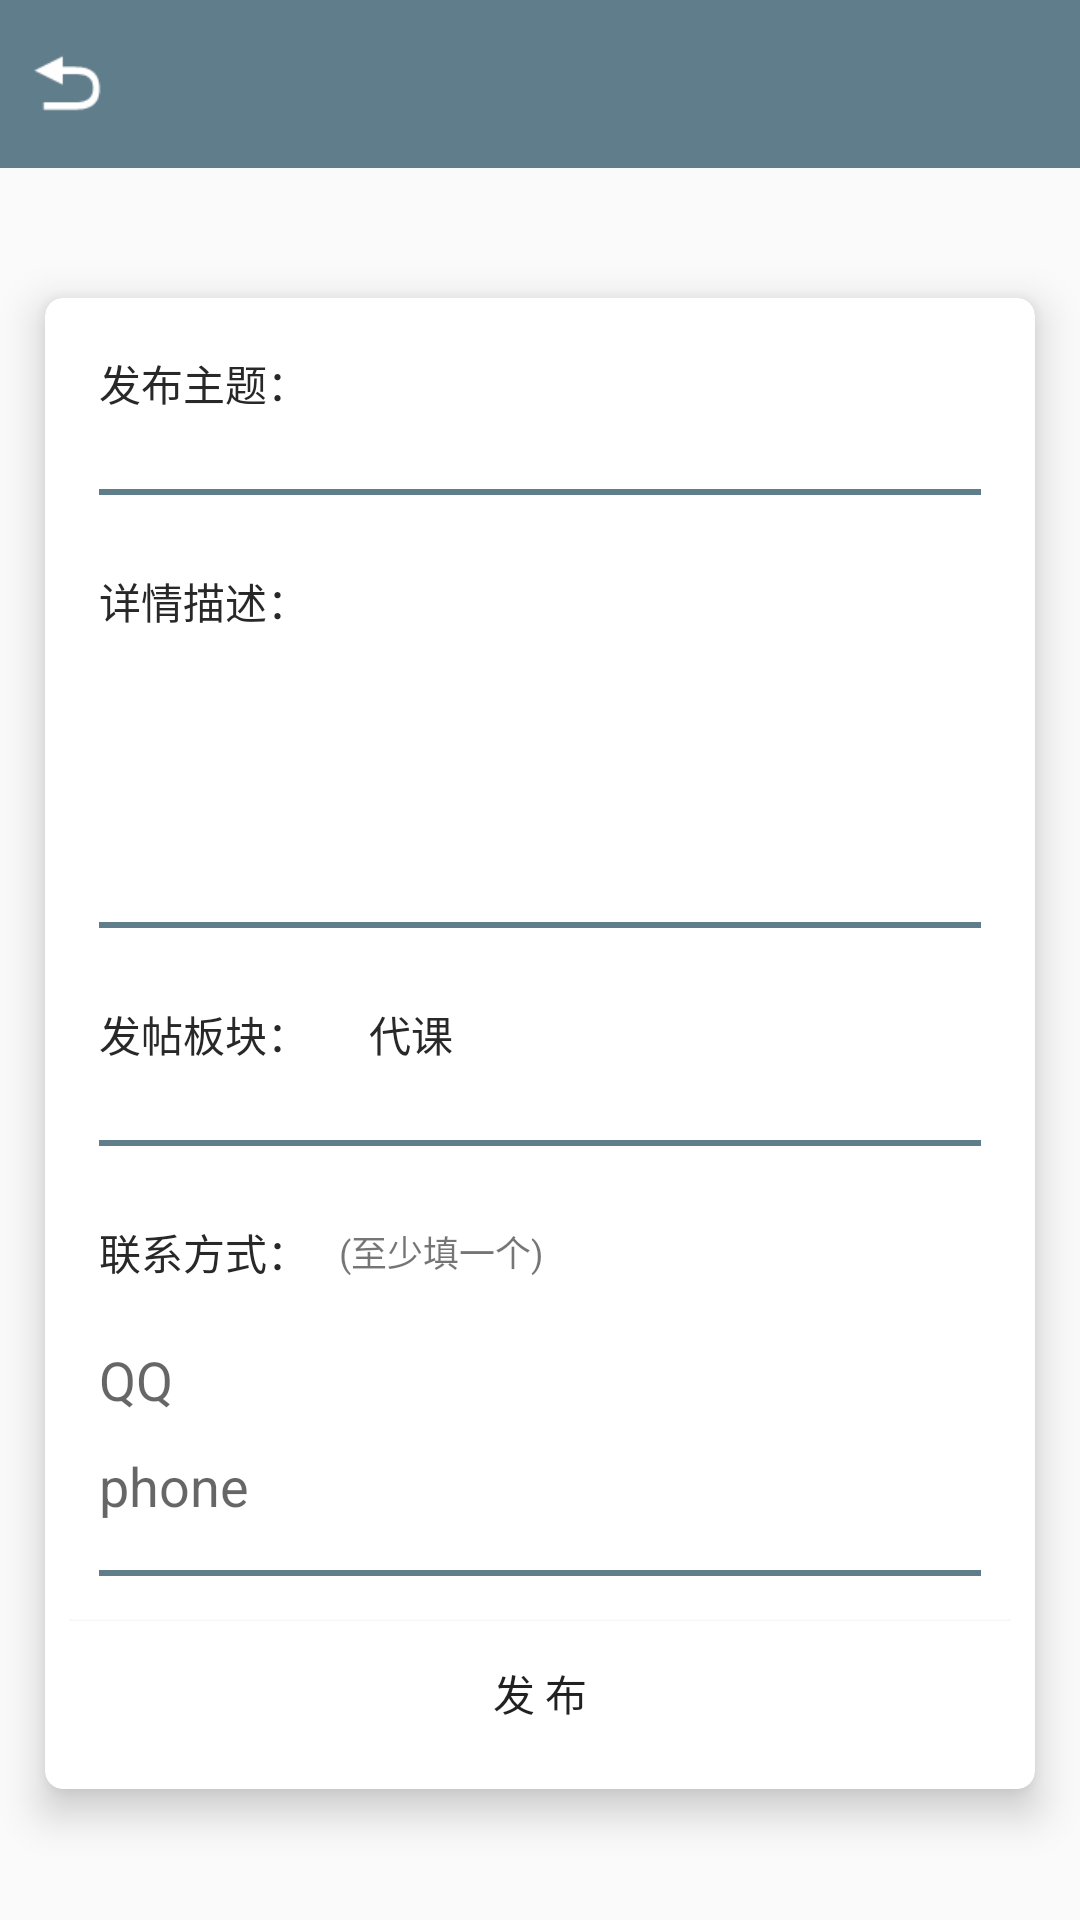

Icon click points for this 1080px×1920px phone screenshot, format (x,y):
back: (67,83)
